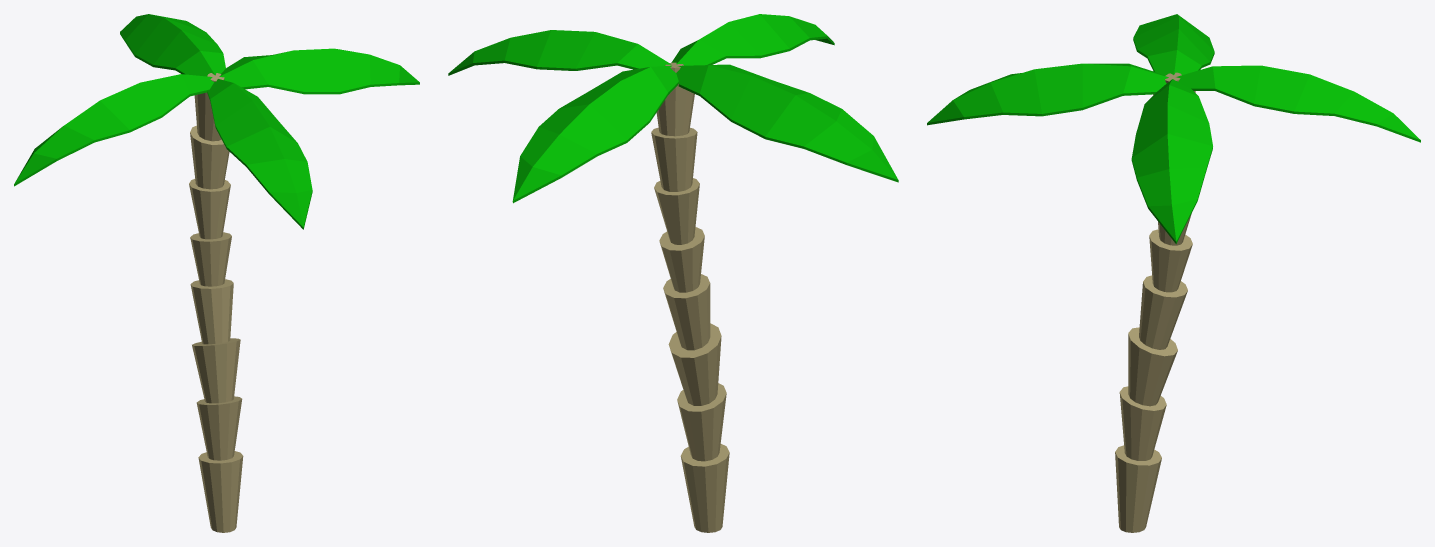
Rendered from PalmTreeTall.fbx.
The picture shows the model from 3 angles, left to right: view 1: azimuth 30°, elevation 25°; view 2: azimuth 150°, elevation 25°; view 3: azimuth 270°, elevation 25°; orthographic projection. The views are drawn at different scales.
Parts seen in each view (by area): view 1: Plane.001, Cylinder; view 2: Plane.001, Cylinder; view 3: Plane.001, Cylinder.
Boxes of the visible parts, bbox=[...] form: Plane.001: bbox=[14, 14, 419, 229]; Cylinder: bbox=[189, 73, 243, 532]; Plane.001: bbox=[448, 14, 898, 203]; Cylinder: bbox=[651, 62, 729, 532]; Plane.001: bbox=[927, 14, 1420, 243]; Cylinder: bbox=[1115, 72, 1195, 532].
Bounding box in the file's own units: 1327 × 1390 × 1320.
